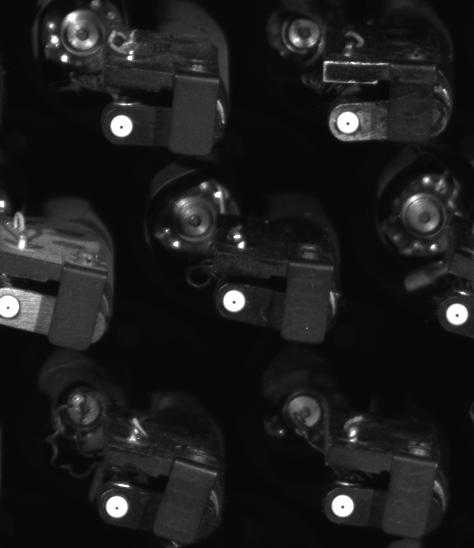fiber: (100, 489, 134, 524), (105, 109, 140, 142), (327, 490, 361, 523), (219, 285, 253, 316), (332, 108, 365, 139), (442, 299, 471, 333), (1, 291, 26, 324)
